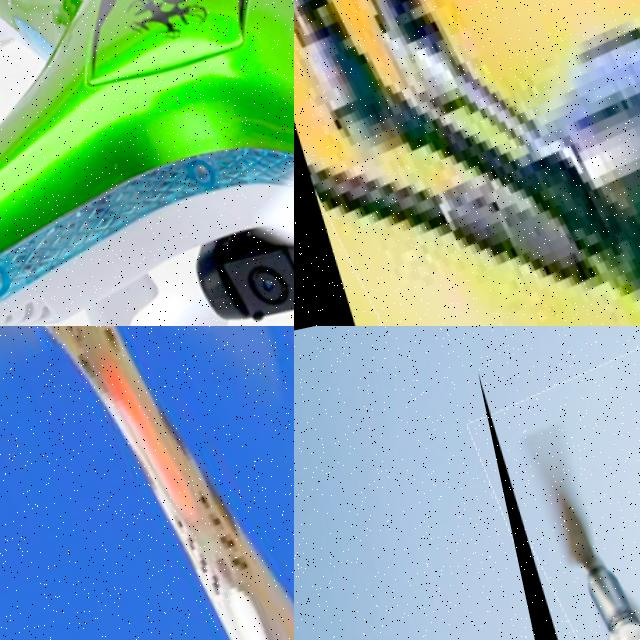drone: (294, 0, 640, 326), (0, 0, 294, 326), (0, 326, 294, 640), (477, 326, 640, 640)
